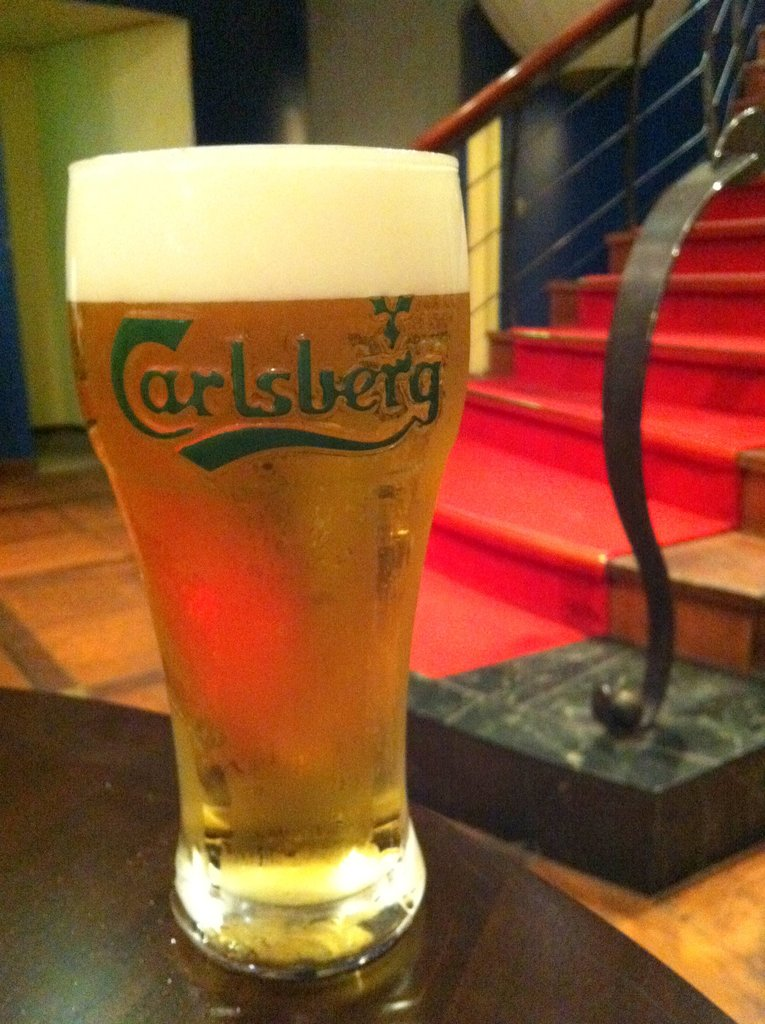Beer: (61, 144, 470, 903)
